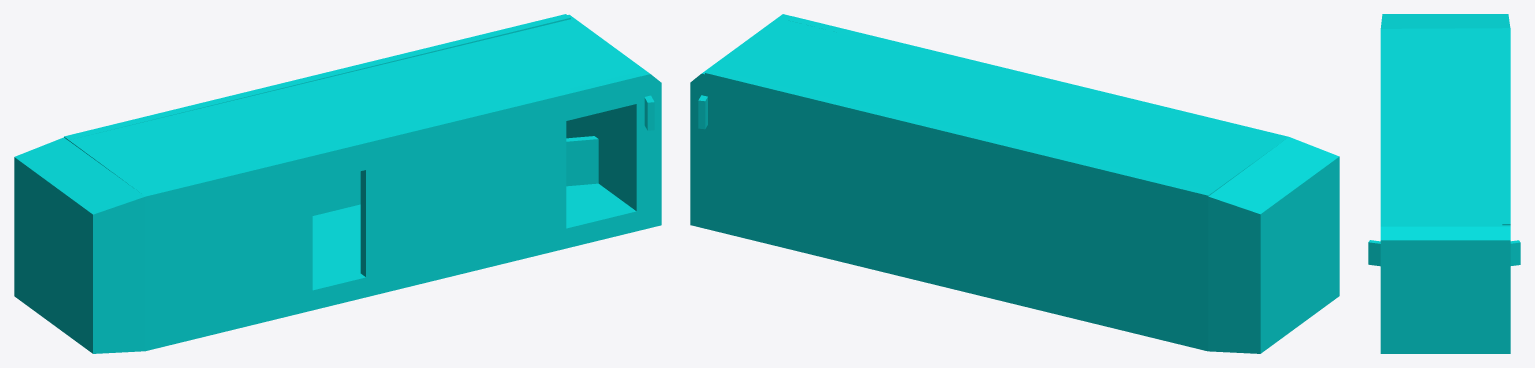
File: SM_Bld_Bus_01_Collision.fbx
3 renders of one model, left to right at view 1: azimuth 30°, elevation 25°; view 2: azimuth 150°, elevation 25°; view 3: azimuth 270°, elevation 25°, orthographic. The views are drawn at different scales.
Parts seen in each view (by area): view 1: SM_Bld_Bus_01_Collision; view 2: SM_Bld_Bus_01_Collision; view 3: SM_Bld_Bus_01_Collision.
Boxes of the visible parts, <box> form: SM_Bld_Bus_01_Collision: <box>14,14,661,353</box>; SM_Bld_Bus_01_Collision: <box>690,14,1339,353</box>; SM_Bld_Bus_01_Collision: <box>1368,14,1520,353</box>.
Bounding box in the file's own units: 1127 × 295 × 328.
